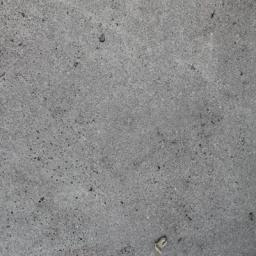FOD: (154, 234, 173, 256)
